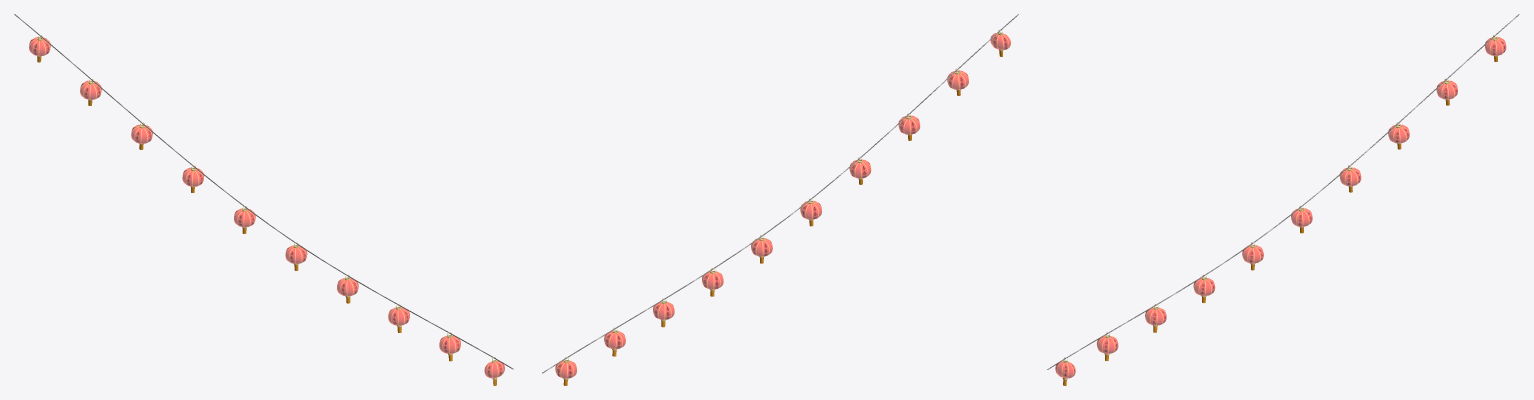
File: SM_lamp_spline_Splines_36.fbx
3 renders of one model, left to right at view 1: azimuth 30°, elevation 25°; view 2: azimuth 150°, elevation 25°; view 3: azimuth 330°, elevation 25°, orthographic.
Parts seen in each view (by area): view 1: SM_lamp_spline_Splines_36; view 2: SM_lamp_spline_Splines_36; view 3: SM_lamp_spline_Splines_36.
Part boxes in pixels (bbox=[...]): SM_lamp_spline_Splines_36: bbox=[14, 14, 513, 385]; SM_lamp_spline_Splines_36: bbox=[542, 14, 1018, 385]; SM_lamp_spline_Splines_36: bbox=[1047, 14, 1519, 385].
Bounding box in the file's own units: 80.78 × 2430 × 153.
